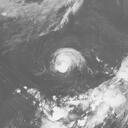cyclone: (49, 47, 88, 74)
